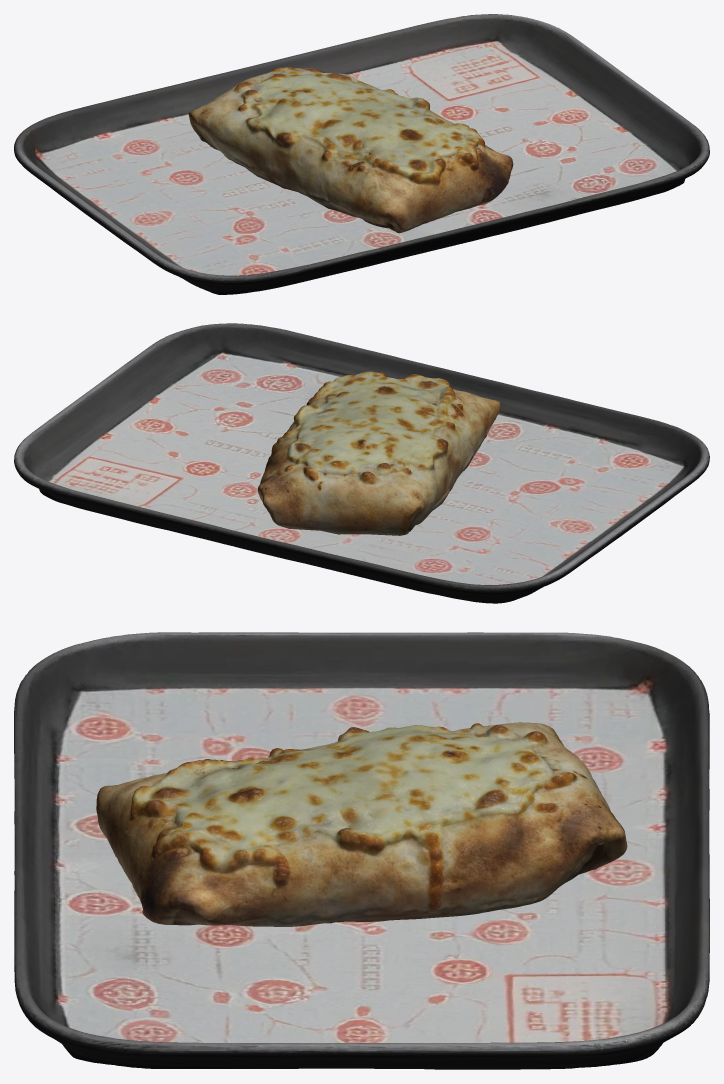
Rendered from French. marsay2.glb.
3 renders of one model, top to bottom at view 1: azimuth 30°, elevation 25°; view 2: azimuth 150°, elevation 25°; view 3: azimuth 270°, elevation 25°, orthographic. The views are drawn at different scales.
Visible parts, largest first — view 1: /Root/Scenes/Scene/Object_37/Object_38/Object_39/Submesh_0, /Root/Scenes/Scene/Object_37/Object_40/Submesh_0; view 2: /Root/Scenes/Scene/Object_37/Object_38/Object_39/Submesh_0, /Root/Scenes/Scene/Object_37/Object_40/Submesh_0; view 3: /Root/Scenes/Scene/Object_37/Object_38/Object_39/Submesh_0, /Root/Scenes/Scene/Object_37/Object_40/Submesh_0.
Boxes of the visible parts, box(x1,y1,x2,y2) form: /Root/Scenes/Scene/Object_37/Object_38/Object_39/Submesh_0: box(14, 14, 709, 294); /Root/Scenes/Scene/Object_37/Object_40/Submesh_0: box(188, 67, 513, 233); /Root/Scenes/Scene/Object_37/Object_38/Object_39/Submesh_0: box(14, 323, 709, 603); /Root/Scenes/Scene/Object_37/Object_40/Submesh_0: box(257, 371, 500, 535); /Root/Scenes/Scene/Object_37/Object_38/Object_39/Submesh_0: box(14, 632, 709, 1069); /Root/Scenes/Scene/Object_37/Object_40/Submesh_0: box(96, 722, 627, 926).
Bounding box in the file's own units: 0.4005 × 0.0487 × 0.2831.
2 materials, 2 textured.
